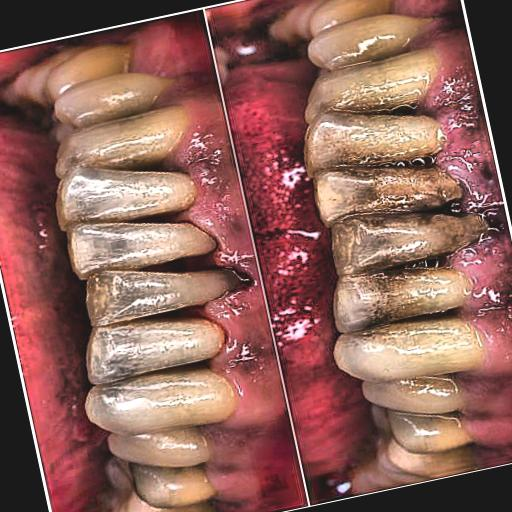Calculus: (258, 37, 512, 388)
